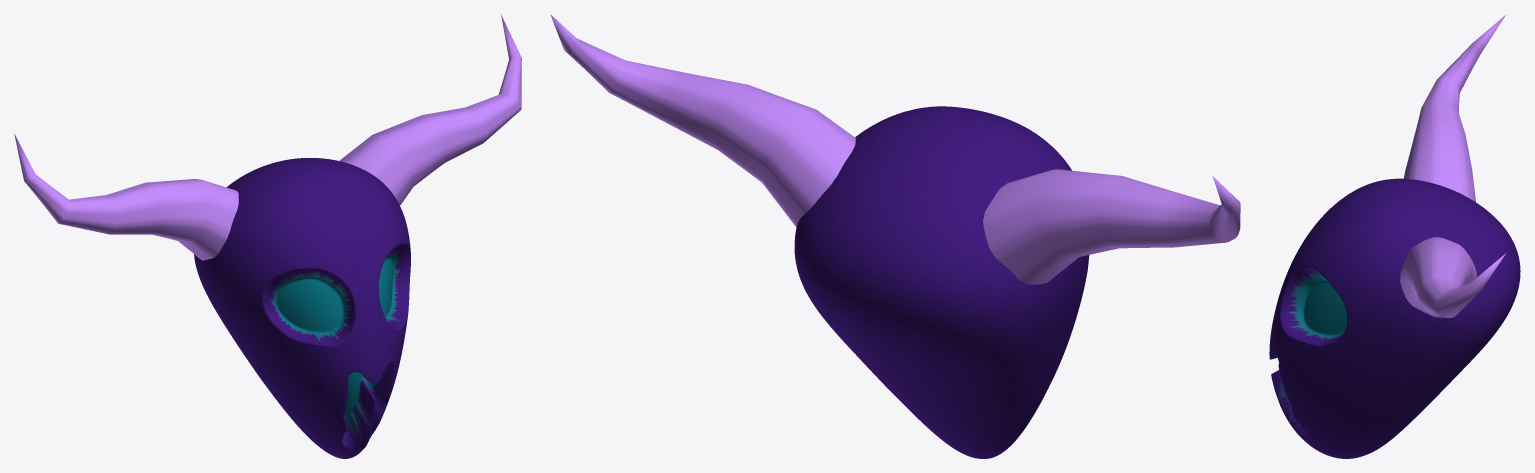
The model's file is Cowskull.fbx.
3 renders of one model, left to right at view 1: azimuth 30°, elevation 25°; view 2: azimuth 150°, elevation 25°; view 3: azimuth 270°, elevation 25°, orthographic. The views are drawn at different scales.
Visible parts, largest first — view 1: PM3D_Sphere3D4_1; view 2: PM3D_Sphere3D4_1; view 3: PM3D_Sphere3D4_1.
Part boxes in pixels (x1=…): PM3D_Sphere3D4_1: x1=14, y1=14, x2=521, y2=458; PM3D_Sphere3D4_1: x1=550, y1=14, x2=1240, y2=458; PM3D_Sphere3D4_1: x1=1269, y1=14, x2=1520, y2=458.
Bounding box in the file's own units: 3.81 × 2.37 × 1.66.
